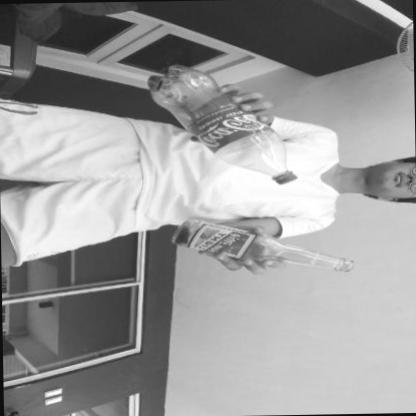plastic_bottles: (145, 60, 302, 186)
